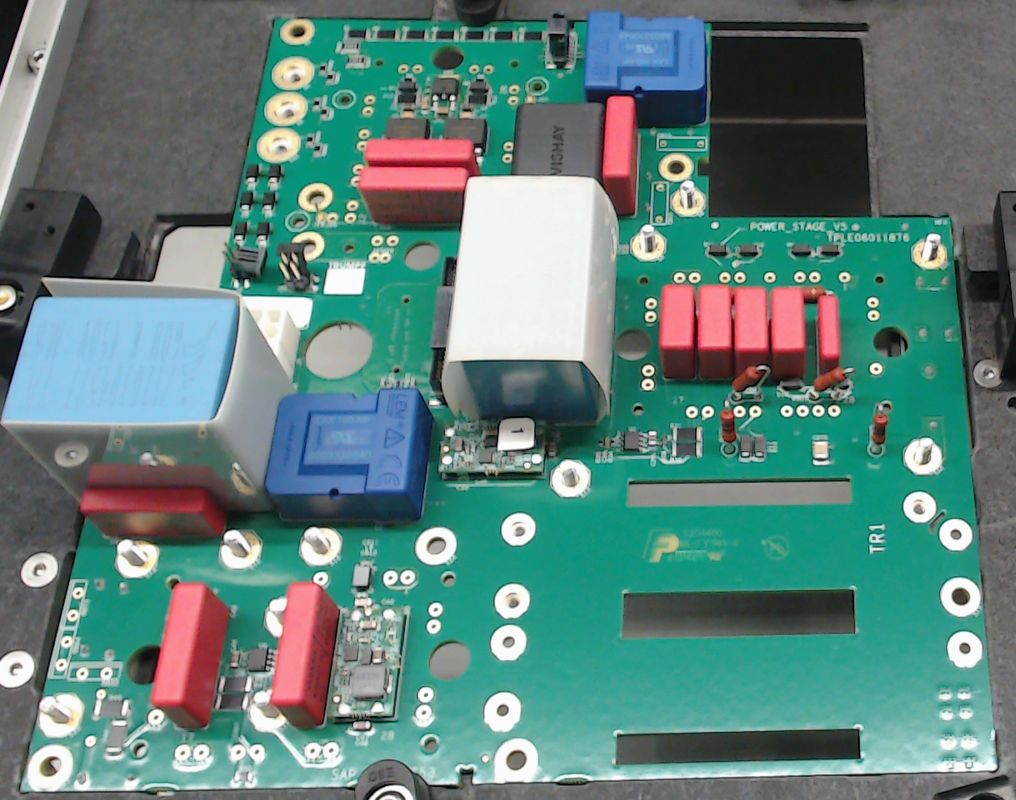comp1: (263, 386, 435, 523), (583, 11, 710, 127)
comp2: (151, 582, 232, 733), (267, 580, 338, 728), (77, 487, 228, 545), (361, 166, 472, 229), (600, 95, 641, 215), (658, 282, 698, 384), (731, 285, 767, 389), (363, 138, 477, 169), (700, 283, 733, 380), (771, 285, 804, 377), (814, 292, 841, 373)
comp3: (510, 101, 608, 180)
comp4: (1, 275, 295, 513), (441, 176, 620, 423)
